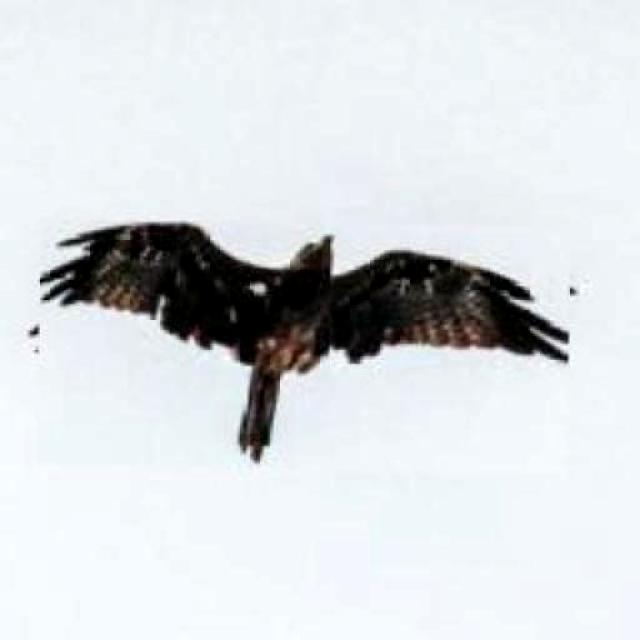airplane: (36, 218, 570, 474)
